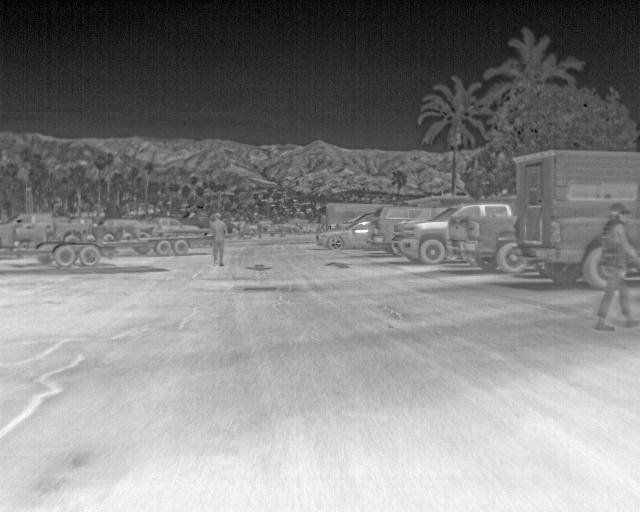bicycle: (390, 202, 509, 267), (449, 207, 535, 275), (369, 207, 444, 250), (313, 223, 371, 251), (1, 213, 56, 236), (156, 217, 207, 236)
empty: (582, 212, 636, 332), (208, 210, 227, 263)
